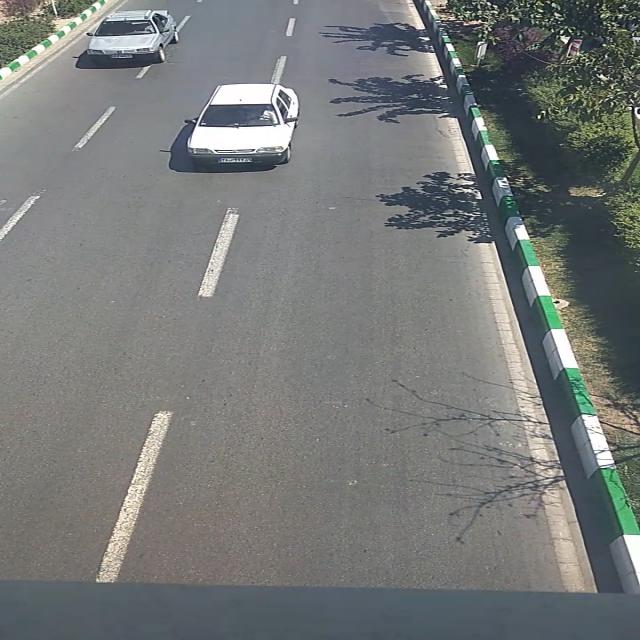car: (182, 85, 303, 172), (86, 10, 182, 66)
